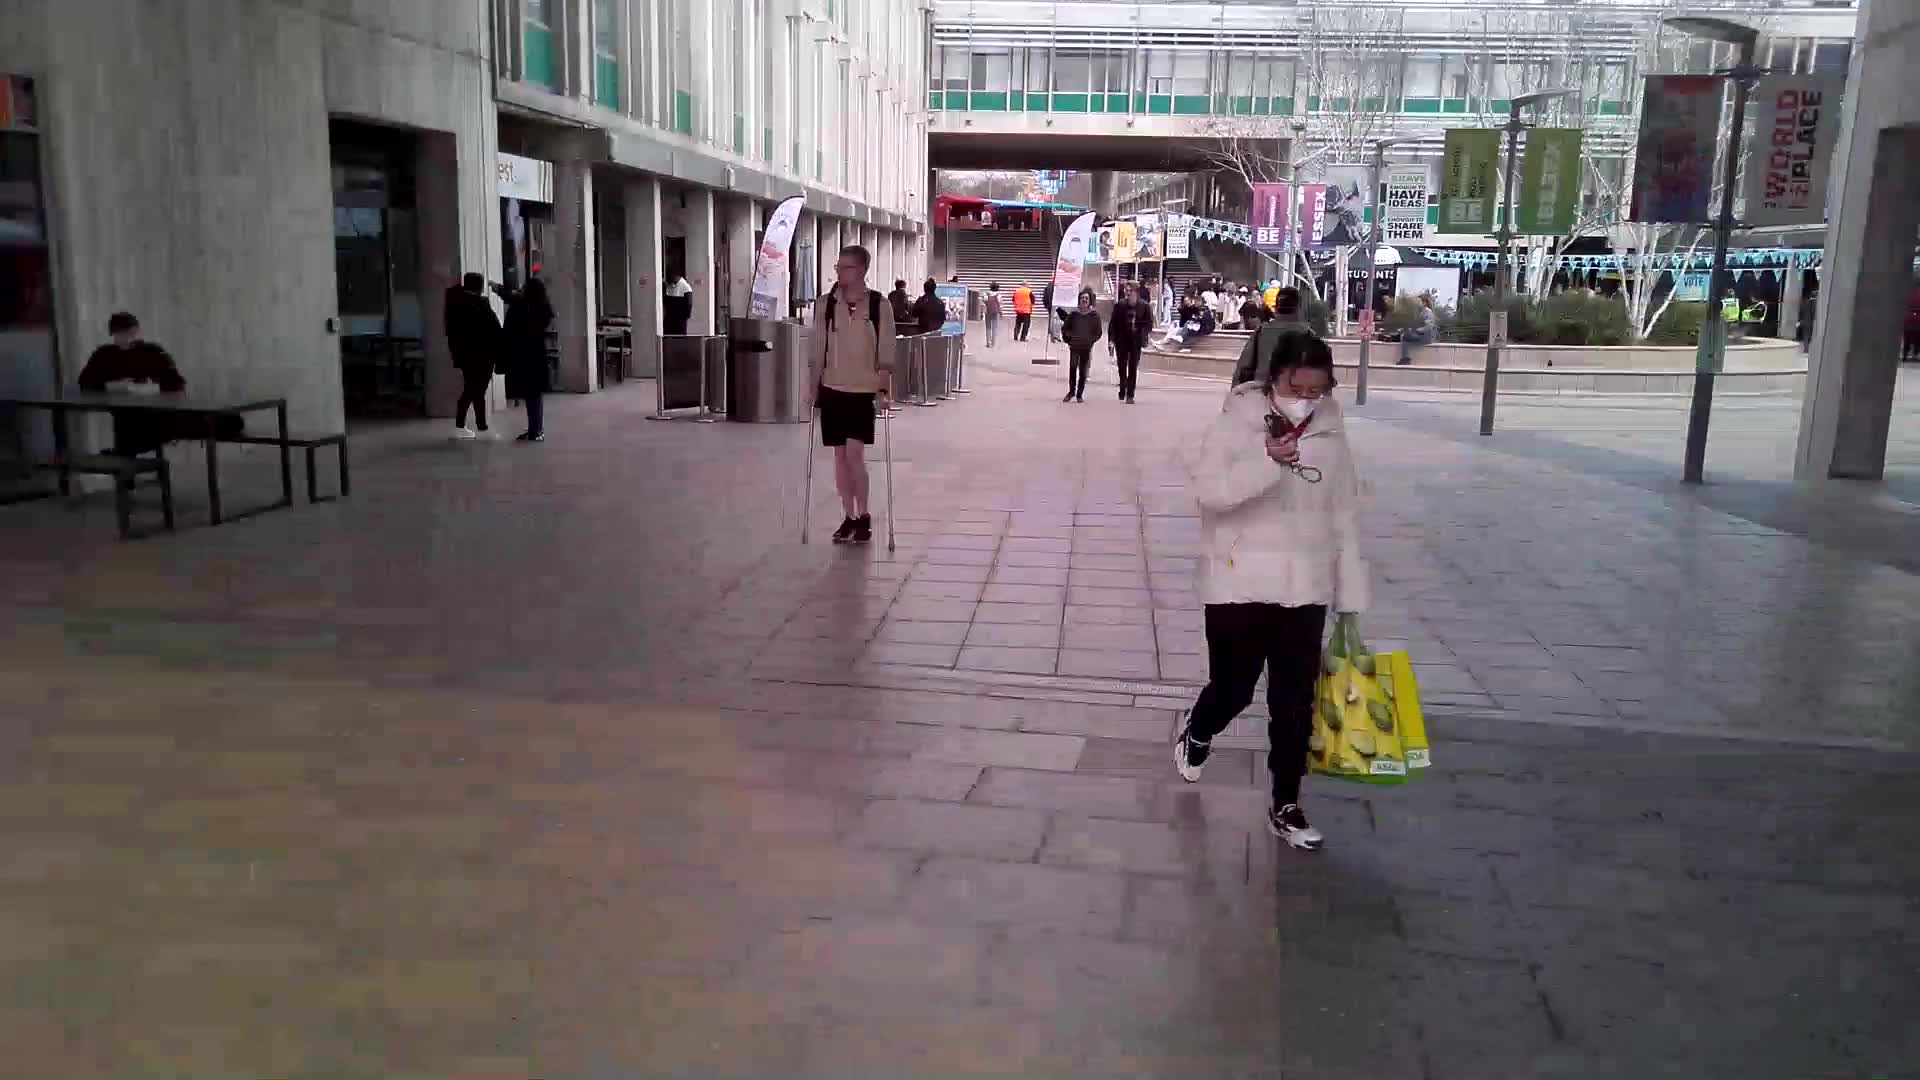Backpack: (1298, 622, 1438, 787)
Bin: (733, 311, 809, 430)
Person: (1204, 341, 1348, 843), (816, 245, 889, 555), (85, 310, 190, 475), (505, 273, 558, 445), (452, 274, 496, 437), (1108, 279, 1149, 401), (1062, 293, 1100, 401), (1388, 293, 1438, 365), (657, 261, 692, 334)
